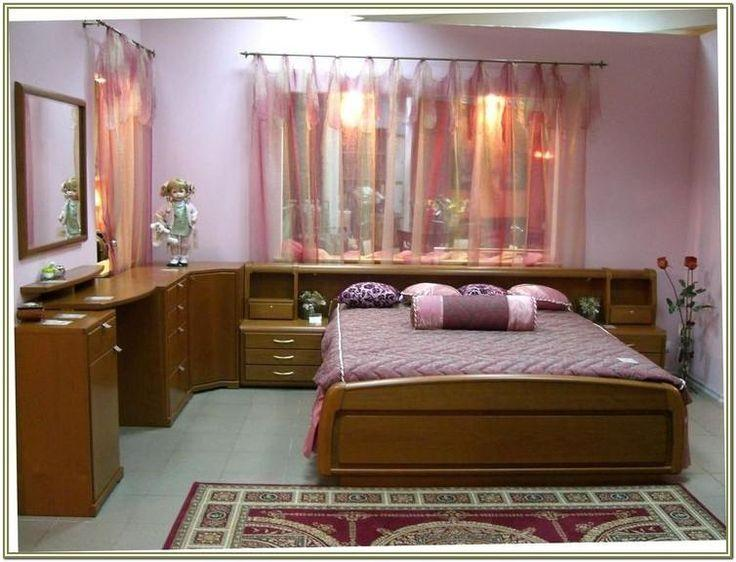bed: (322, 279, 690, 483)
table: (14, 254, 246, 520)
